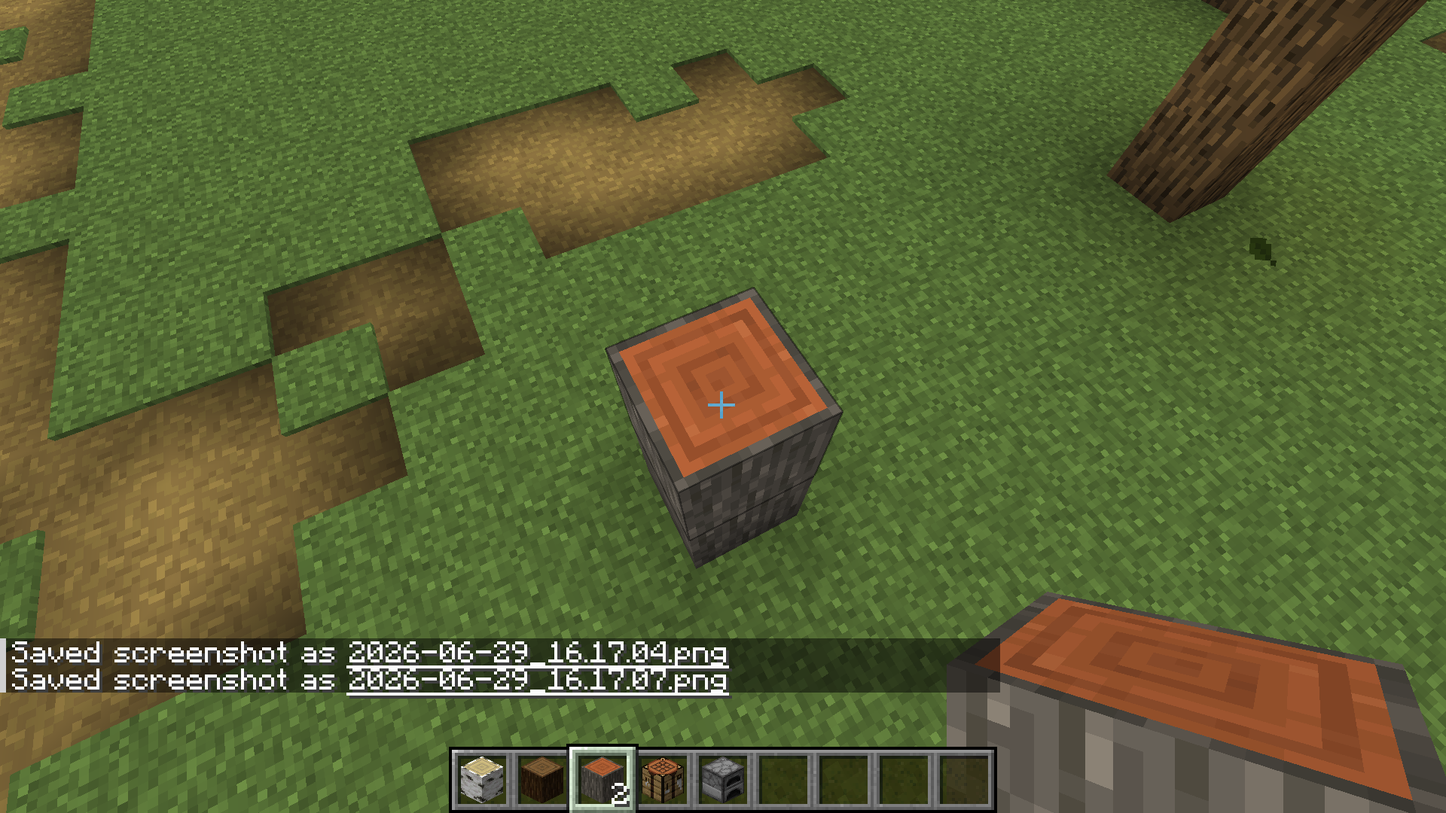wood: (1118, 100, 1234, 216)
wood 2: (970, 600, 1421, 812), (615, 288, 842, 482), (678, 414, 834, 560)
